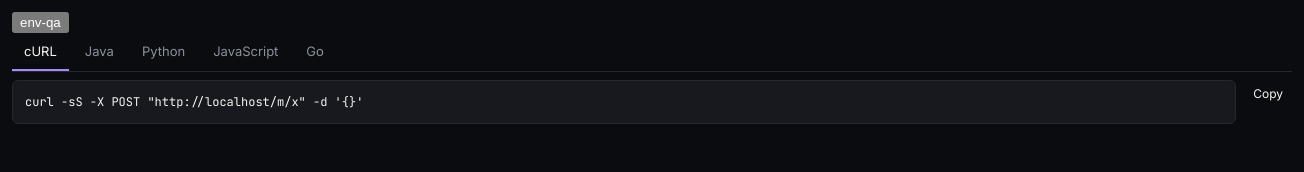
Test case: CodeGenerator › a language tab renders a preview note + Preview badge
Click the tab "Java" at x=99, y=52, box [73,33,126,71]
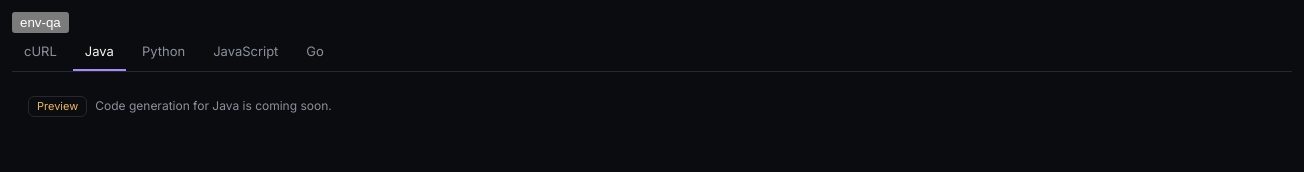
Now the text "Code generation for Java is coming soon." is shown, box [95,97,332,116]
Now the text "Preview" is shown, box [28,96,87,117]
